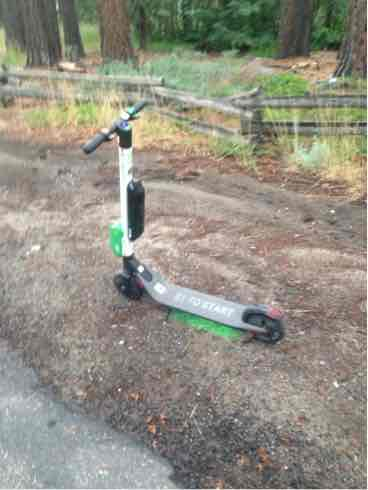scooter: (77, 96, 289, 343)
